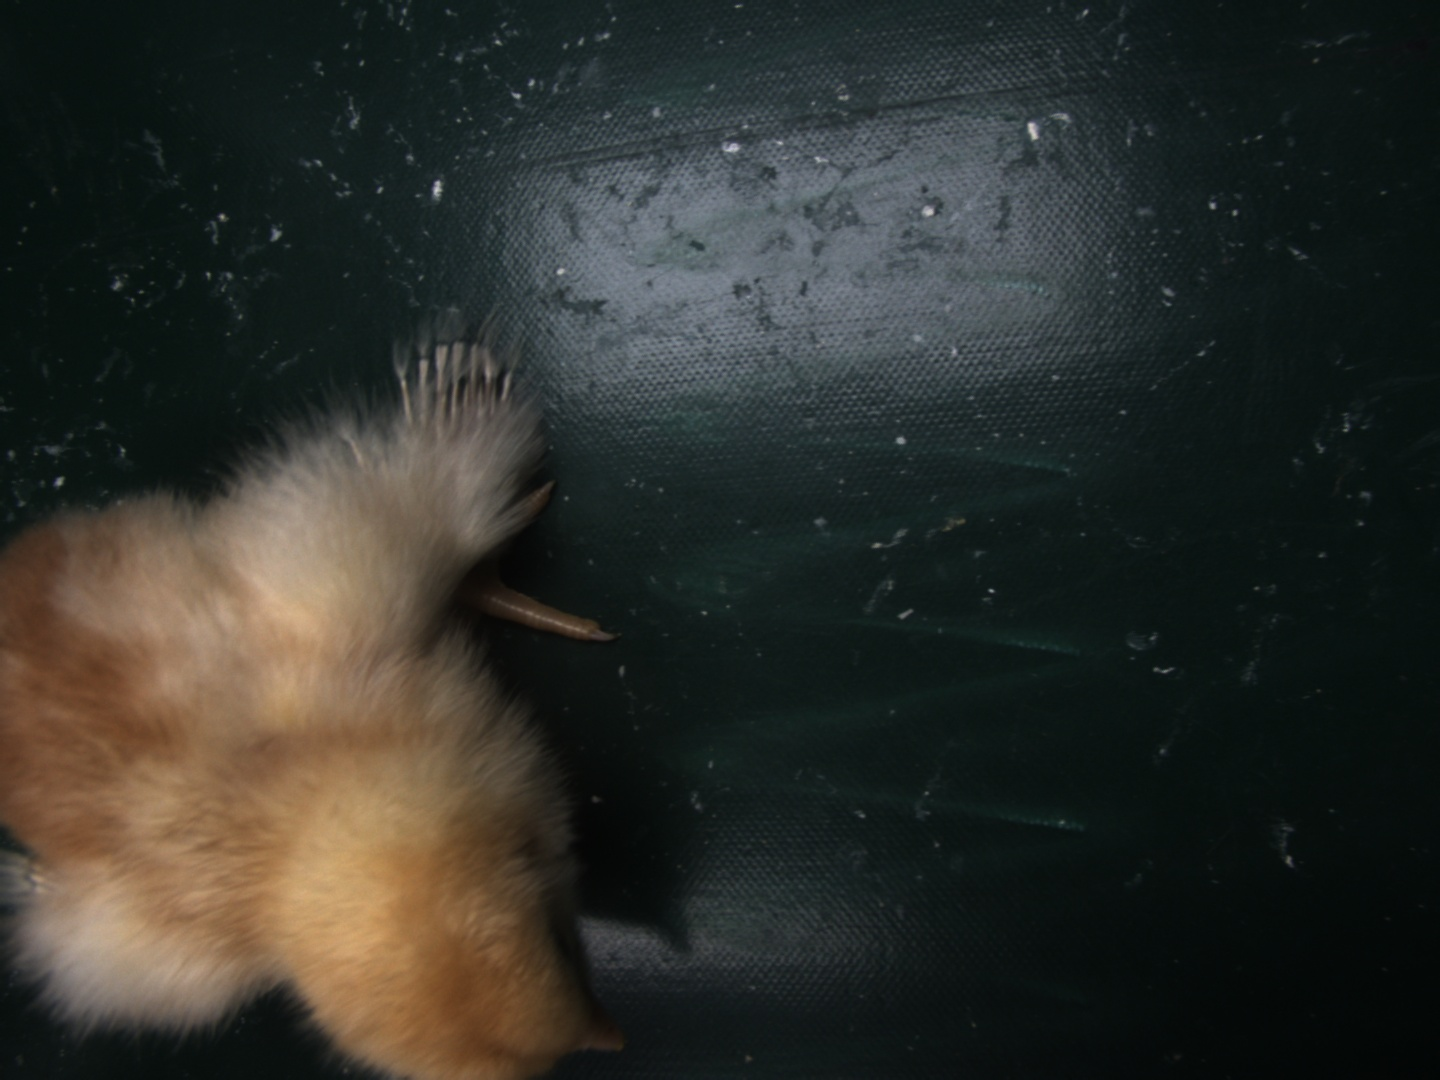female: (392, 338, 517, 434)
